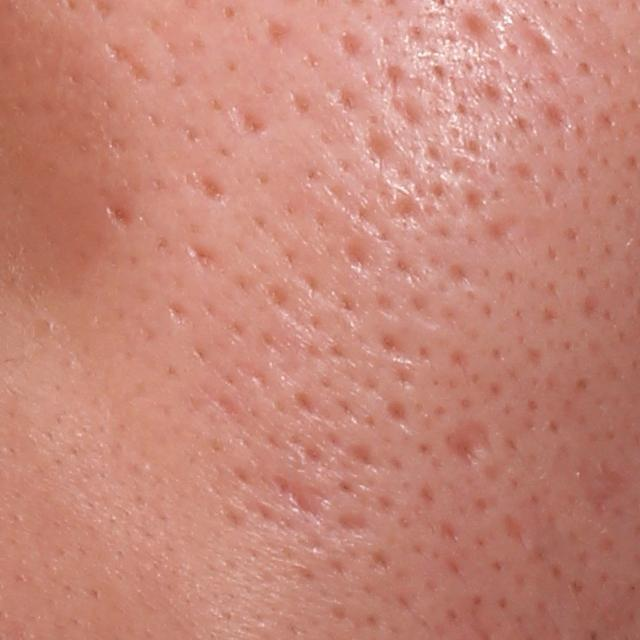atrophic_scar: (570, 456, 631, 525), (255, 471, 330, 526), (512, 12, 566, 68), (104, 40, 158, 89), (444, 416, 492, 469), (96, 188, 140, 236), (451, 1, 499, 44), (186, 166, 232, 208), (342, 237, 382, 280), (230, 106, 273, 139), (537, 97, 573, 133), (187, 237, 222, 272), (337, 510, 377, 539), (502, 509, 530, 547)
